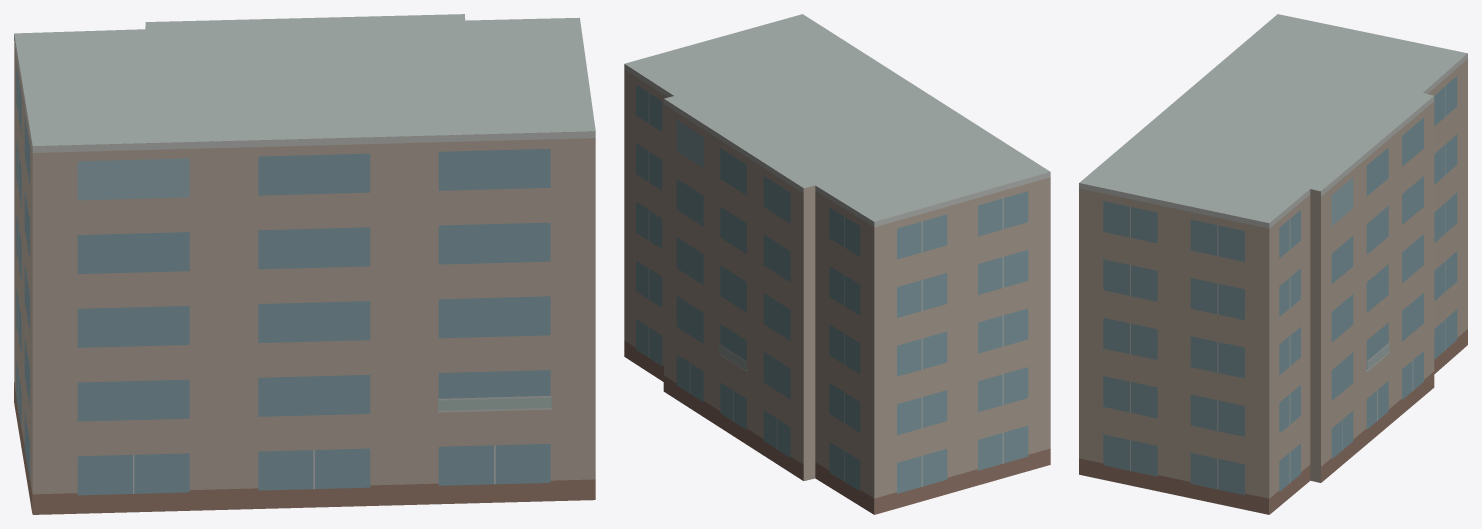
The model's file is survey-upis-32893430.glb.
3 renders of one model, left to right at view 1: azimuth 30°, elevation 25°; view 2: azimuth 150°, elevation 25°; view 3: azimuth 270°, elevation 25°, orthographic. The views are drawn at different scales.
Visible parts, largest first — view 1: survey-upis-32893430.tmp; view 2: survey-upis-32893430.tmp; view 3: survey-upis-32893430.tmp.
Part boxes in pixels (<box>): survey-upis-32893430.tmp: <box>14,14,595,514</box>; survey-upis-32893430.tmp: <box>624,14,1050,514</box>; survey-upis-32893430.tmp: <box>1079,14,1467,514</box>.
Bounding box in the file's own units: 20.31 × 13.2 × 15.95.
